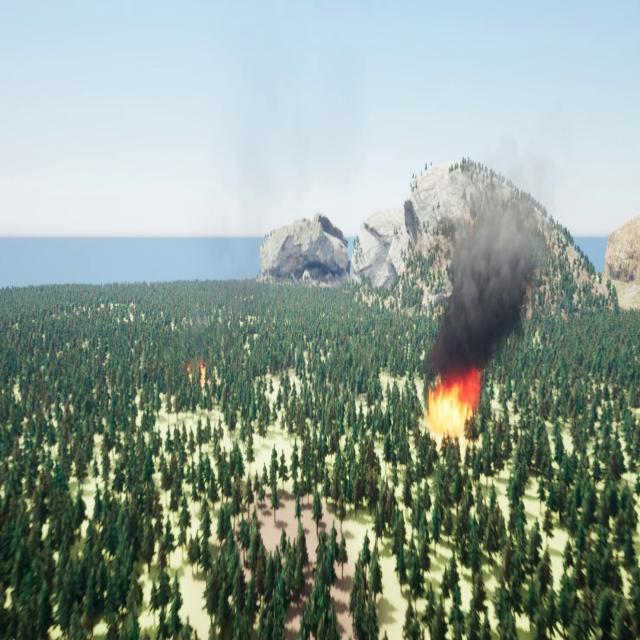fire: (427, 374, 487, 439), (184, 360, 206, 384)
smoke: (430, 142, 553, 365)
